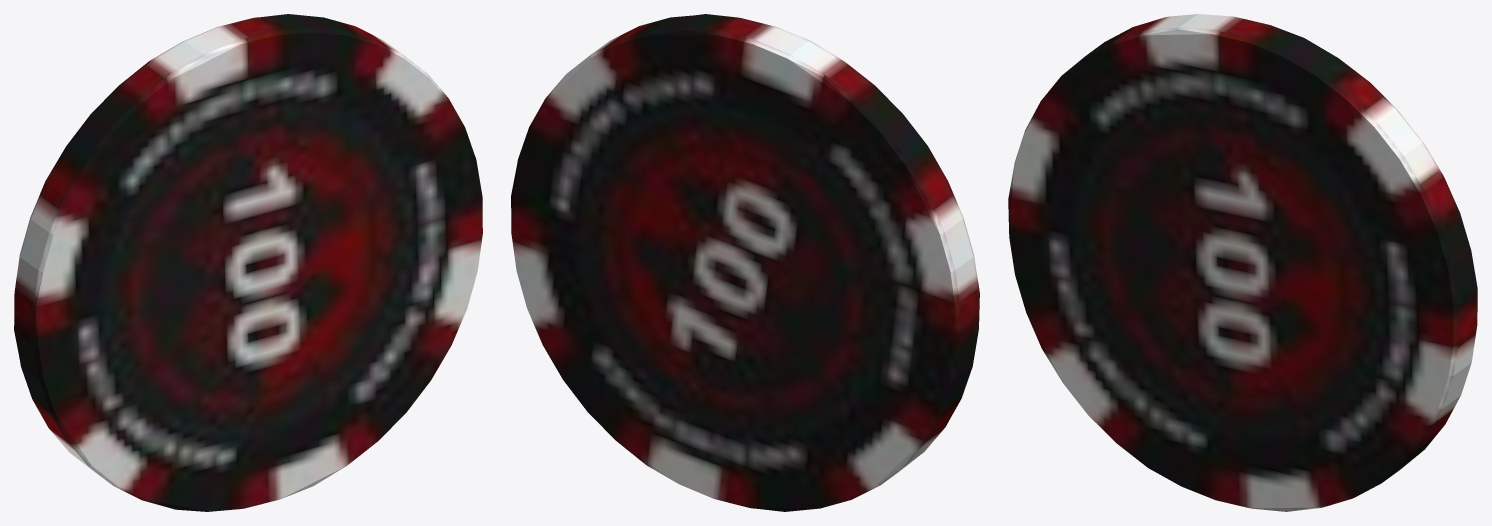
Rendered from chip_100.glb.
The picture shows the model from 3 angles, left to right: view 1: azimuth 30°, elevation 25°; view 2: azimuth 150°, elevation 25°; view 3: azimuth 330°, elevation 25°; orthographic projection.
Visible parts, largest first — view 1: chip_100.obj; view 2: chip_100.obj; view 3: chip_100.obj.
Boxes of the visible parts, box(x1,y1,x2,y2) form: chip_100.obj: box(14, 14, 482, 511); chip_100.obj: box(511, 14, 979, 511); chip_100.obj: box(1008, 14, 1477, 511).
Size of the model in its own units: 1 by 1 by 0.0909.
1 material, 1 textured.
